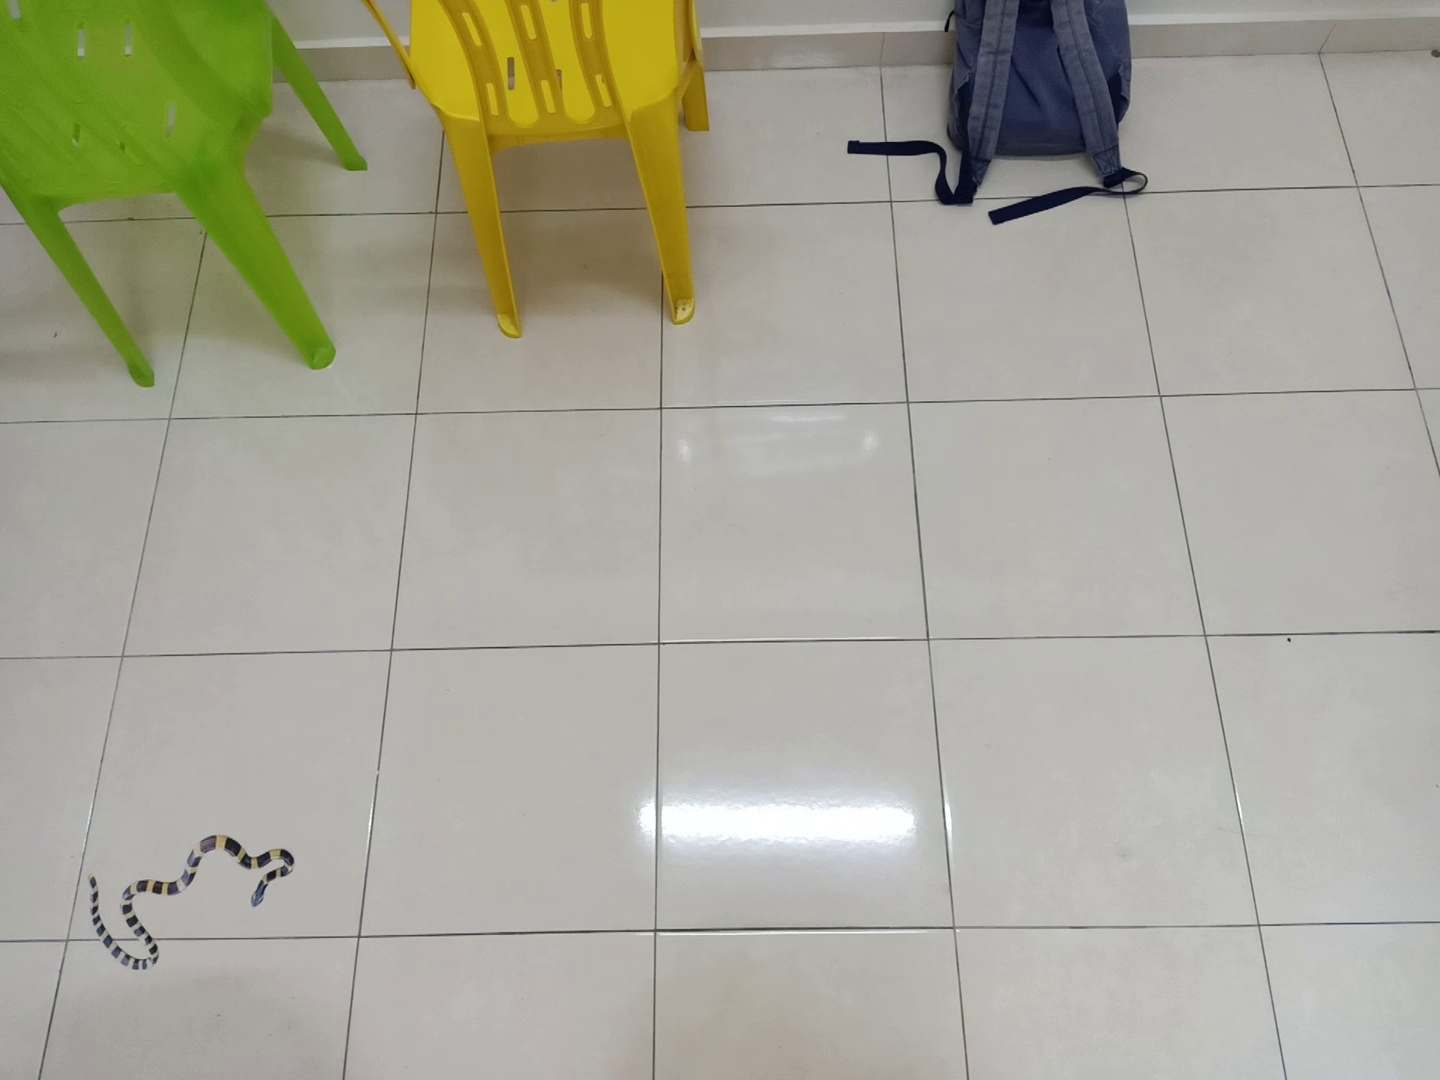snake: (85, 821, 308, 977)
